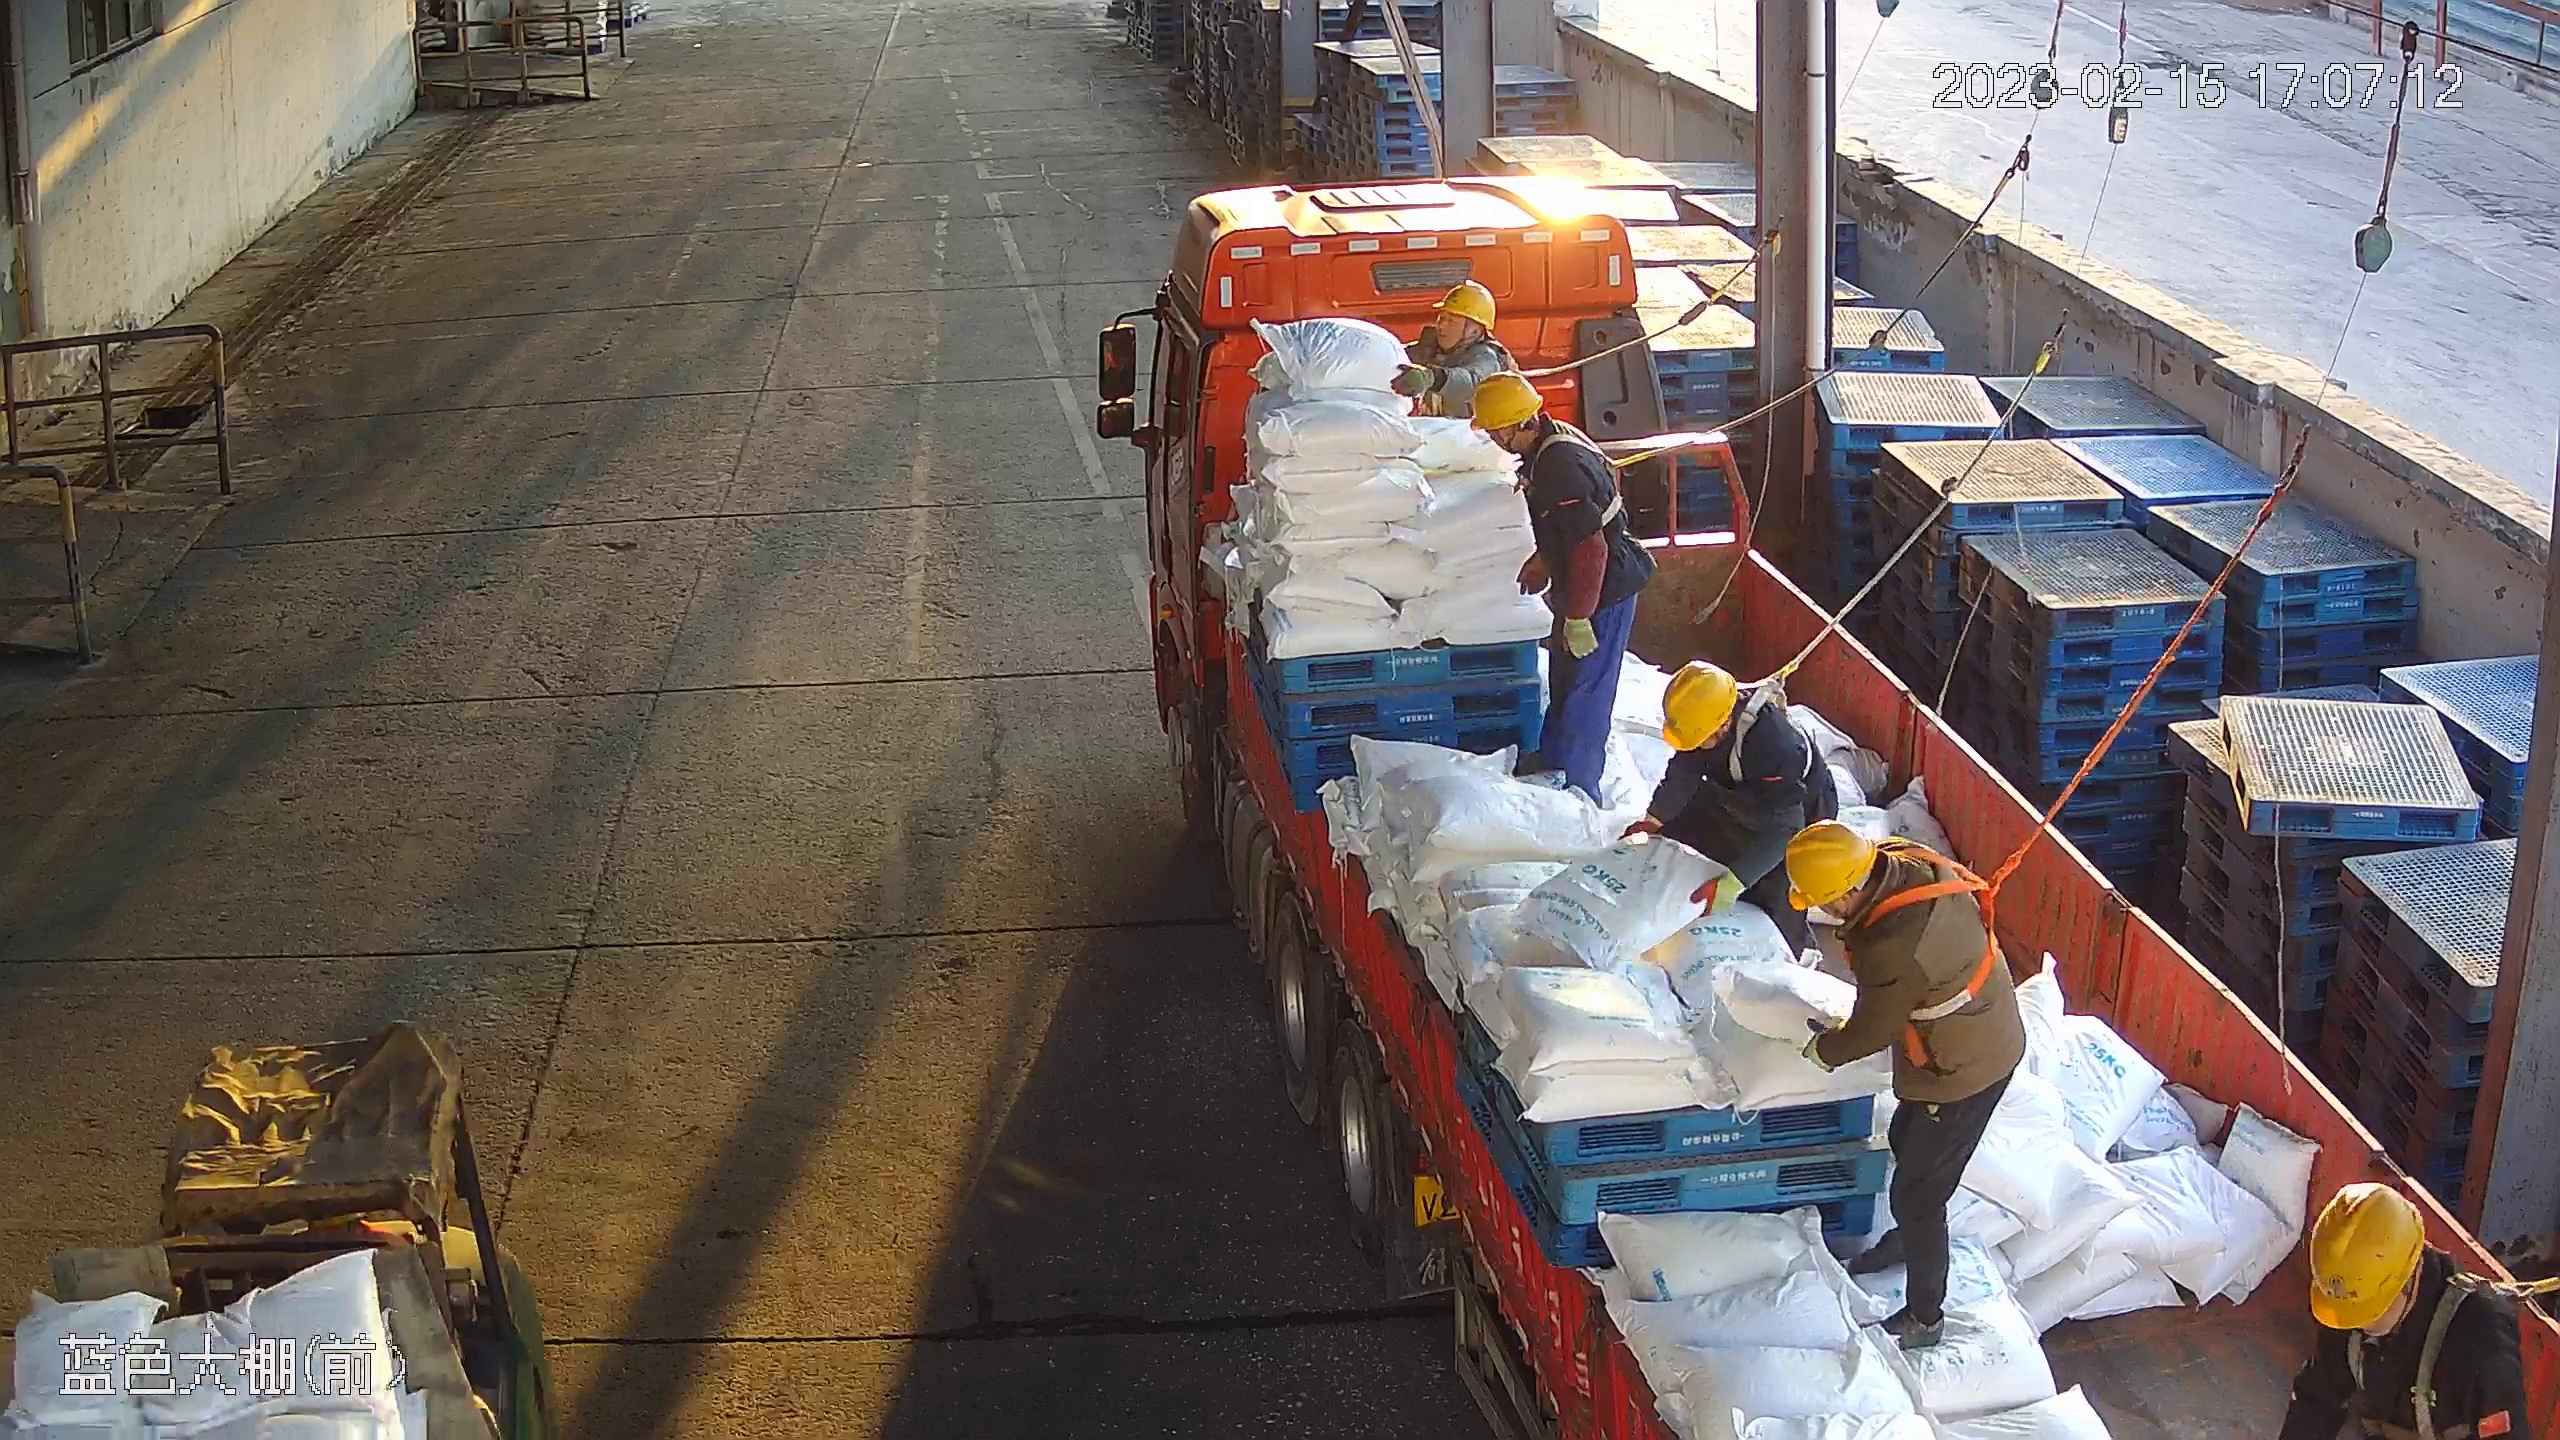belt: (2332, 1271, 2558, 1440), (1877, 838, 2033, 1031), (1728, 657, 1818, 795), (1543, 415, 1643, 540)
head: (2283, 1177, 2523, 1398), (1786, 827, 1967, 977), (1468, 374, 1614, 516), (1383, 276, 1521, 405), (1649, 661, 1794, 783)
helmet: (2312, 1176, 2432, 1329), (1784, 827, 1875, 912), (1662, 660, 1738, 751), (1470, 374, 1546, 431), (1432, 276, 1496, 332)
people: (1784, 824, 2032, 1353), (1470, 369, 1655, 824), (1625, 659, 1841, 964)
truck: (1091, 171, 2555, 1437)
